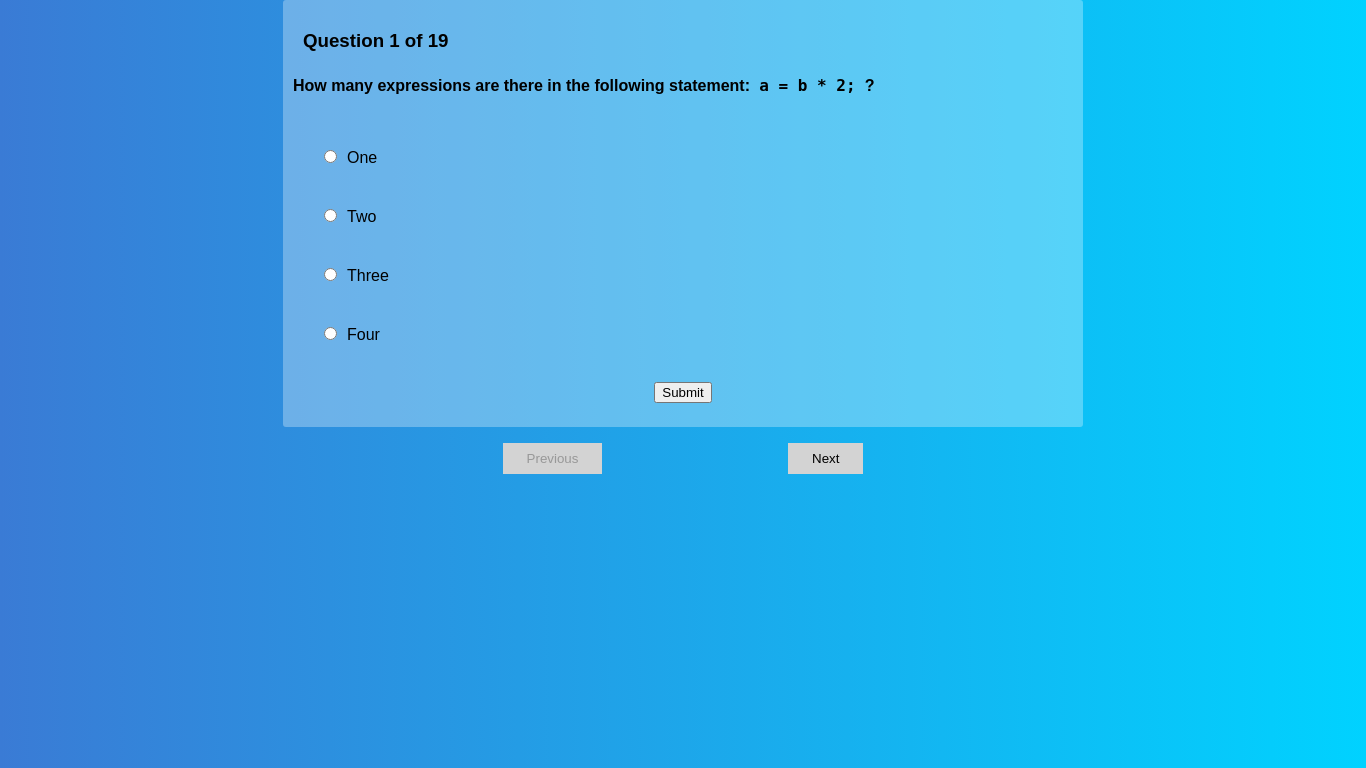
Test: should set error on submit if answer not selected
Expected: the text "Please select an answer" is not shown
Click the button "Submit": (683, 392) [654,382,712,403]
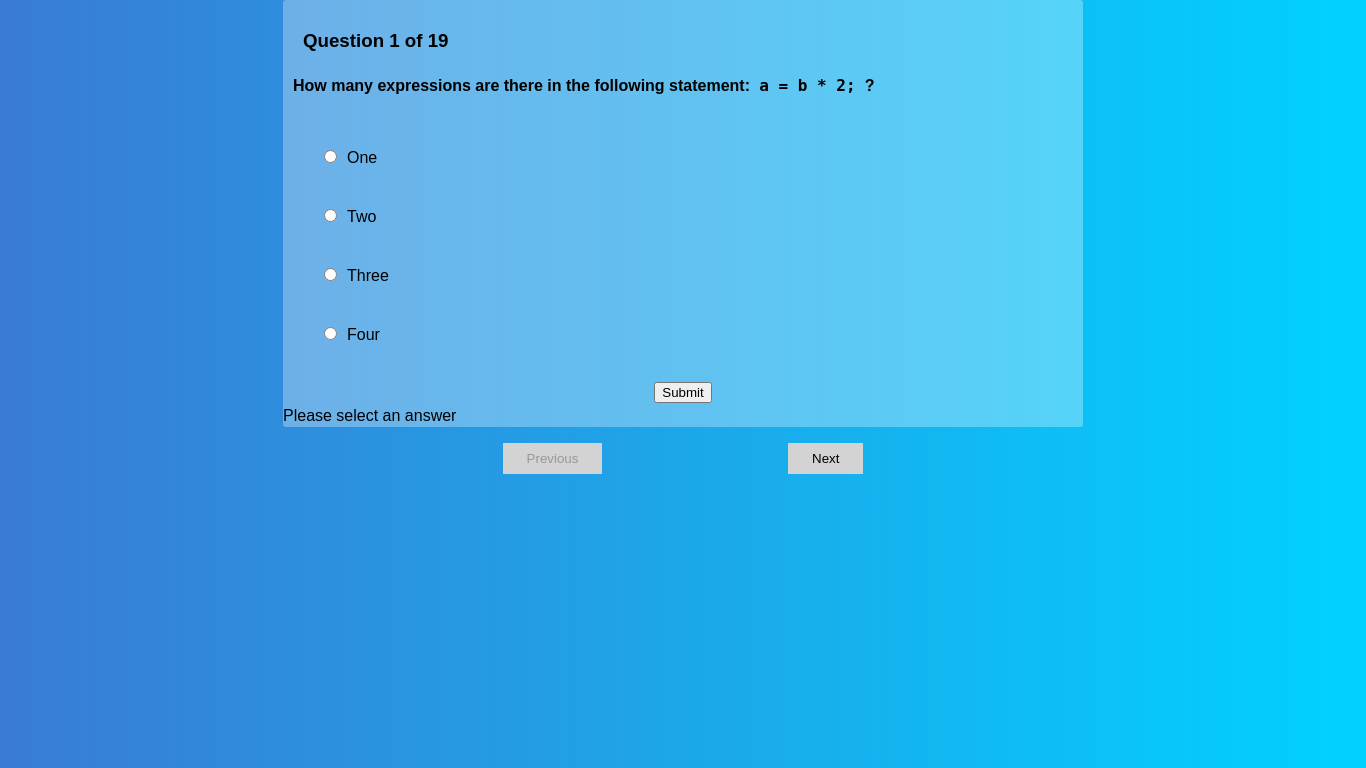
Now the text "Please select an answer" is shown, box [283,407,456,424]
